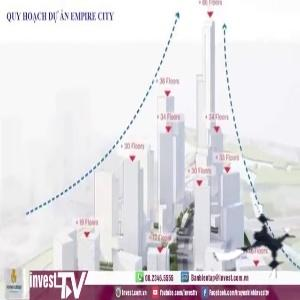drone: (212, 200, 300, 288)
